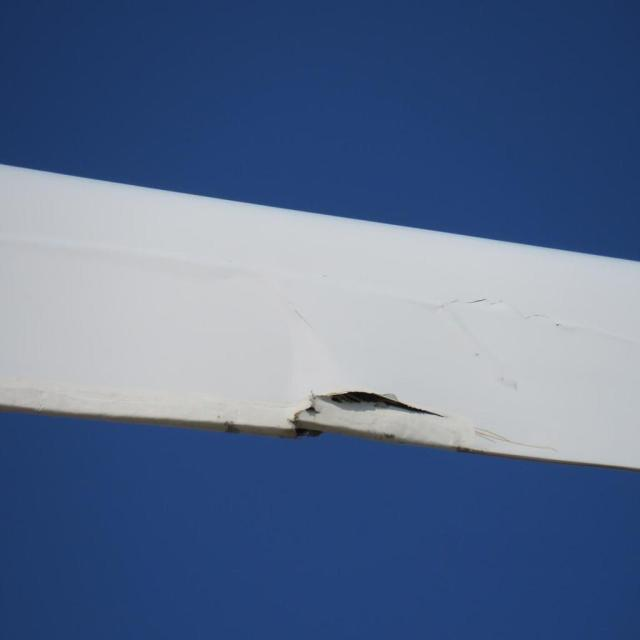crack: (283, 384, 446, 444)
